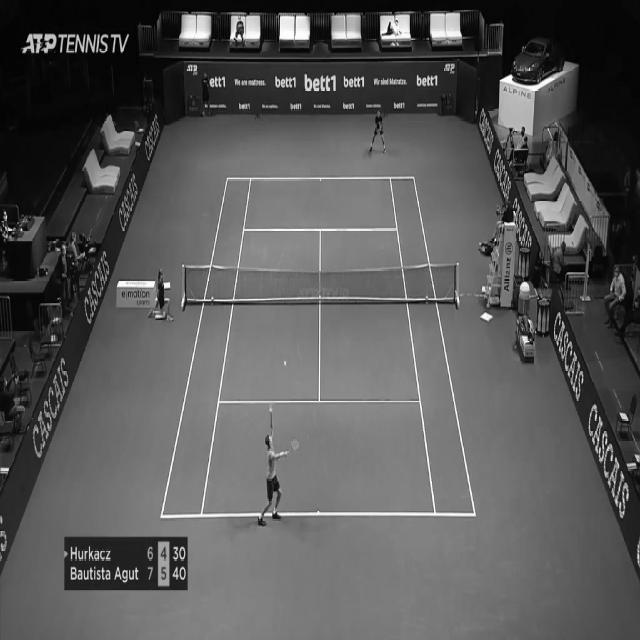tennis-court: (160, 176, 476, 518)
